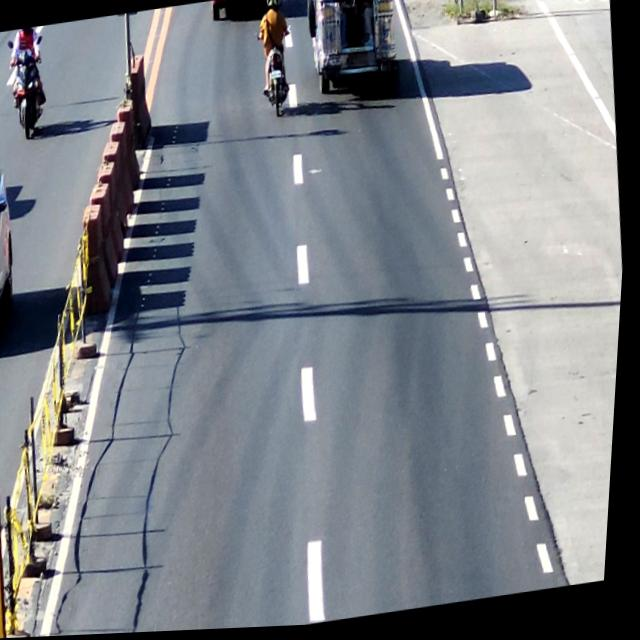Jeep: (300, 0, 404, 108)
Motorcycle: (252, 0, 302, 127)
